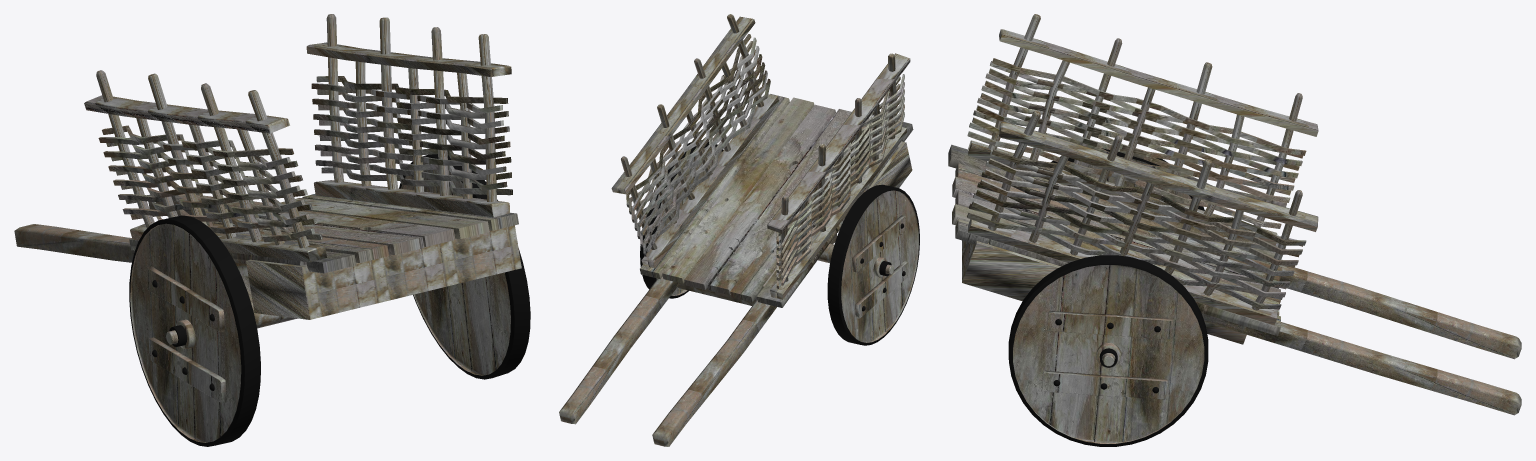
Rendered from wagenneu1.obj.
3 renders of one model, left to right at view 1: azimuth 30°, elevation 25°; view 2: azimuth 150°, elevation 25°; view 3: azimuth 270°, elevation 25°, orthographic. The views are drawn at different scales.
Parts seen in each view (by area): view 1: object4_3, object6_5, object3_2, object9_8, object8_7, object5_4, object2_1, object1_0, object7_6; view 2: object5_4, object4_3, object8_7, object9_8, object7_6, object6_5, object3_2, object2_1, object1_0; view 3: object6_5, object4_3, object9_8, object8_7, object7_6, object3_2, object5_4, object1_0, object2_1.
Boxes of the visible parts, box(x1,y1,x2,y2) form: object4_3: box(84, 42, 521, 328); object6_5: box(130, 162, 510, 442); object3_2: box(96, 14, 497, 248); object9_8: box(98, 83, 509, 227); object8_7: box(102, 76, 512, 242); object5_4: box(129, 194, 518, 273); object2_1: box(129, 154, 530, 446); object1_0: box(147, 266, 226, 403); object7_6: box(14, 194, 262, 276); object5_4: box(640, 94, 913, 307); object4_3: box(611, 16, 912, 305); object8_7: box(626, 34, 904, 288); object9_8: box(629, 37, 904, 279); object7_6: box(559, 276, 776, 446); object6_5: box(655, 147, 919, 342); object3_2: box(621, 14, 896, 281); object2_1: box(640, 141, 919, 345); object1_0: box(852, 215, 909, 318); object6_5: box(1013, 156, 1204, 443); object4_3: box(962, 29, 1318, 344); object9_8: box(972, 61, 1302, 297); object8_7: box(967, 58, 1306, 309); object7_6: box(1201, 265, 1521, 415); object3_2: box(988, 14, 1302, 310); object5_4: box(948, 144, 1282, 335); object1_0: box(1041, 311, 1172, 399); object2_1: box(1008, 148, 1208, 446).
Bounding box in the file's own units: 1.17 × 1.3 × 2.1.
6 materials, 5 textured.
